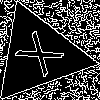X: (13, 29, 74, 85)
